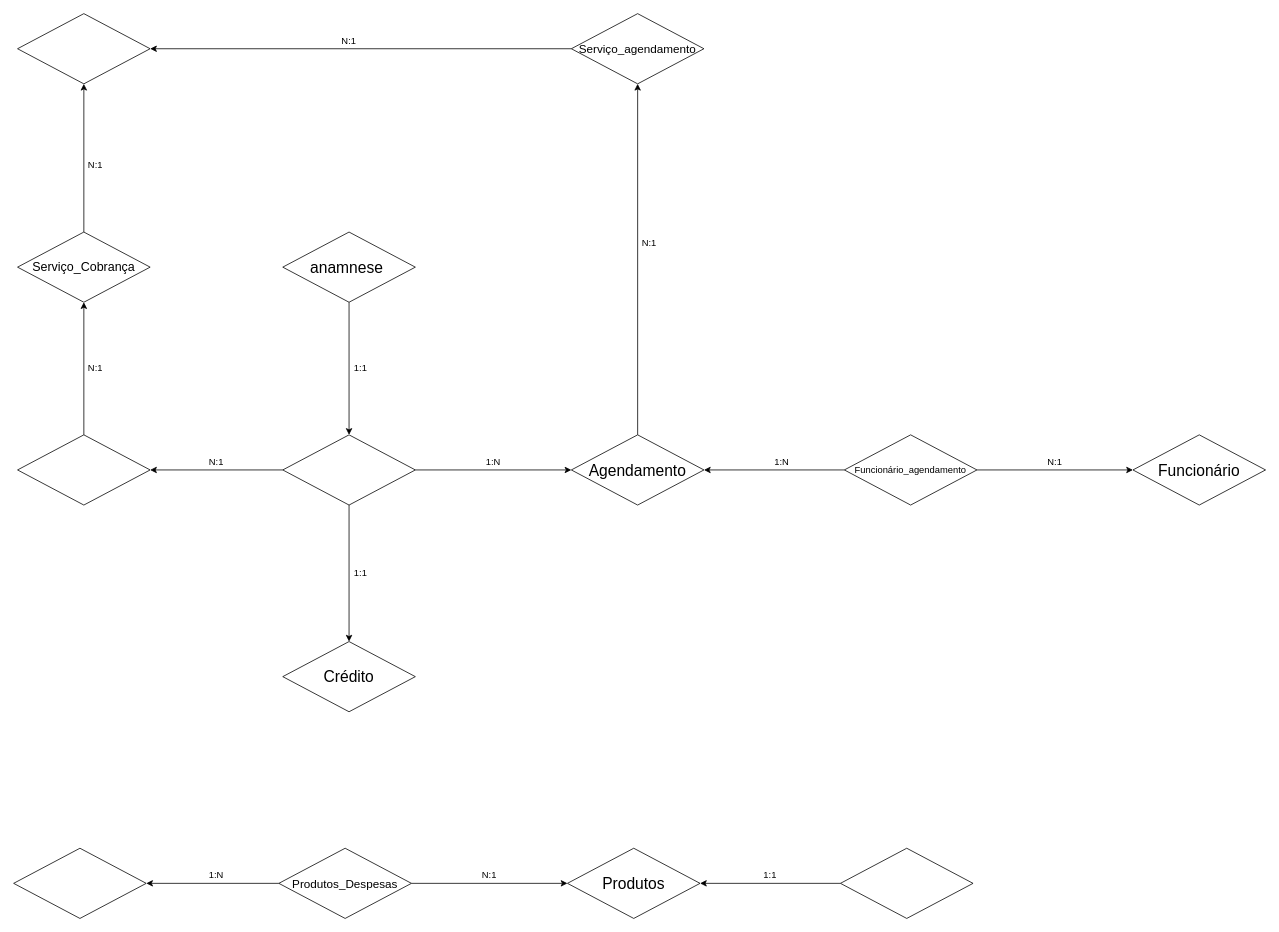
Some shapes in this 1279 by 932 pixel diagram are drawn without their labels. The centre of each missing label's shape, as x and y in pixels:
"Cliente" goes at (x=348, y=469).
"Cobrança" goes at (x=83, y=469).
"Despesas" goes at (x=79, y=882).
"Movimentação Produtos" goes at (x=906, y=882).
"Serviço" goes at (x=83, y=48).
